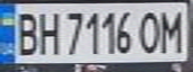1: (81, 8, 100, 55), (100, 8, 118, 54)
6: (115, 8, 139, 54)
7: (60, 8, 84, 55)
B: (9, 8, 42, 56)
H: (33, 7, 60, 56)
M: (157, 7, 187, 54)
O: (136, 7, 163, 55)
